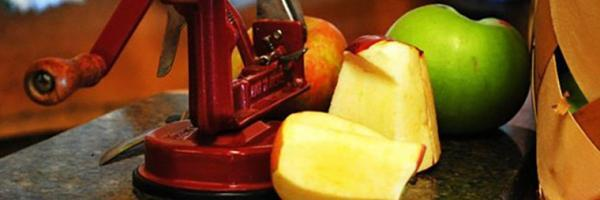apple: (303, 14, 347, 104)
